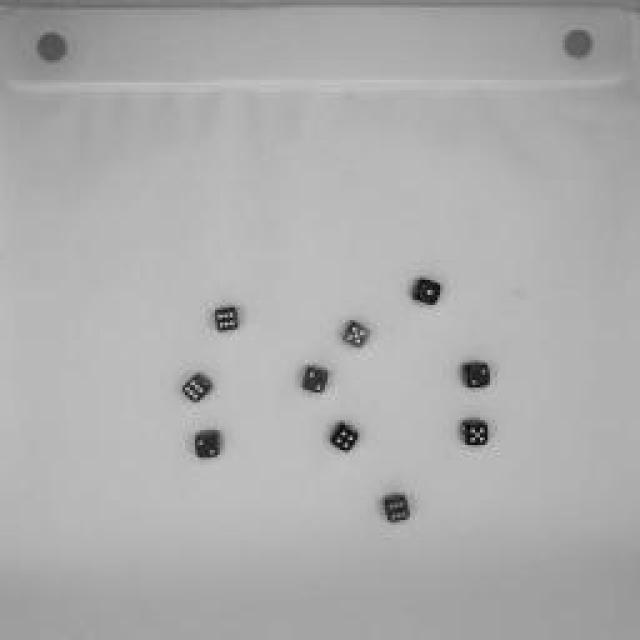dice_1: (411, 276, 444, 309)
dice_2: (298, 362, 332, 398), (460, 358, 492, 392), (191, 429, 224, 461)
dice_4: (326, 423, 364, 455)
dice_5: (338, 318, 374, 352), (460, 416, 492, 449)
dice_6: (179, 372, 216, 406), (381, 493, 414, 525), (211, 305, 244, 333)
